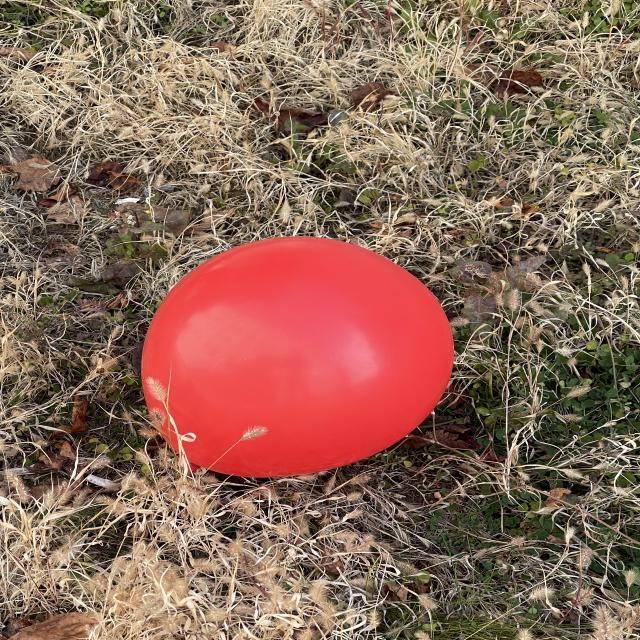balloon: (141, 237, 453, 477), (232, 361, 233, 364)
